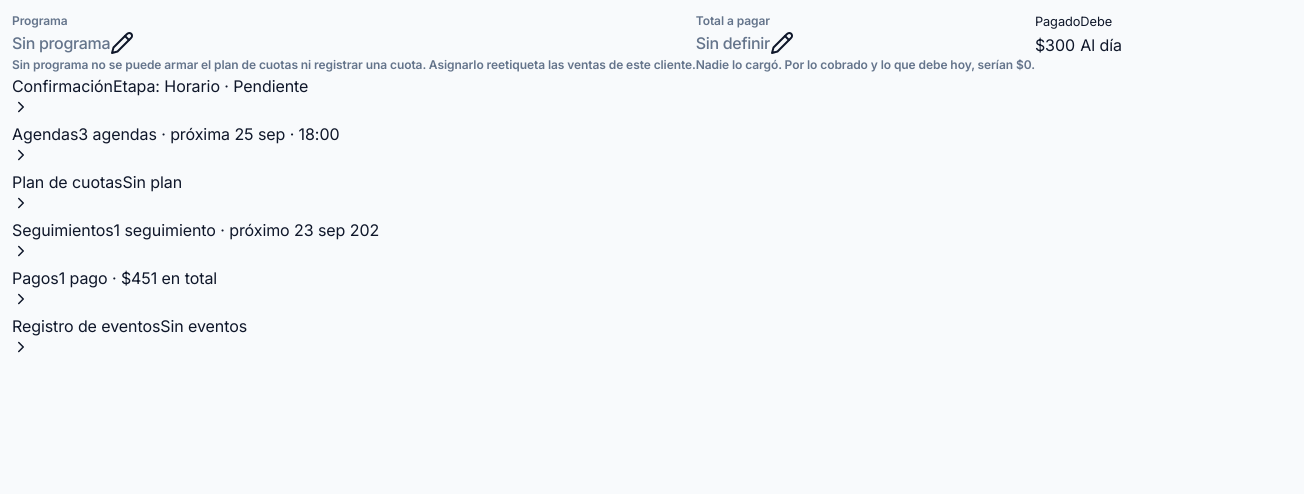
Test: los pagos del historial › un pago viejo se muestra como está escrito, con sus centavos
The image size is (1304, 494).
Click the button "Pagos1 pago · $451 en total" at {"x": 115, "y": 287}, box [12,266,217,308]
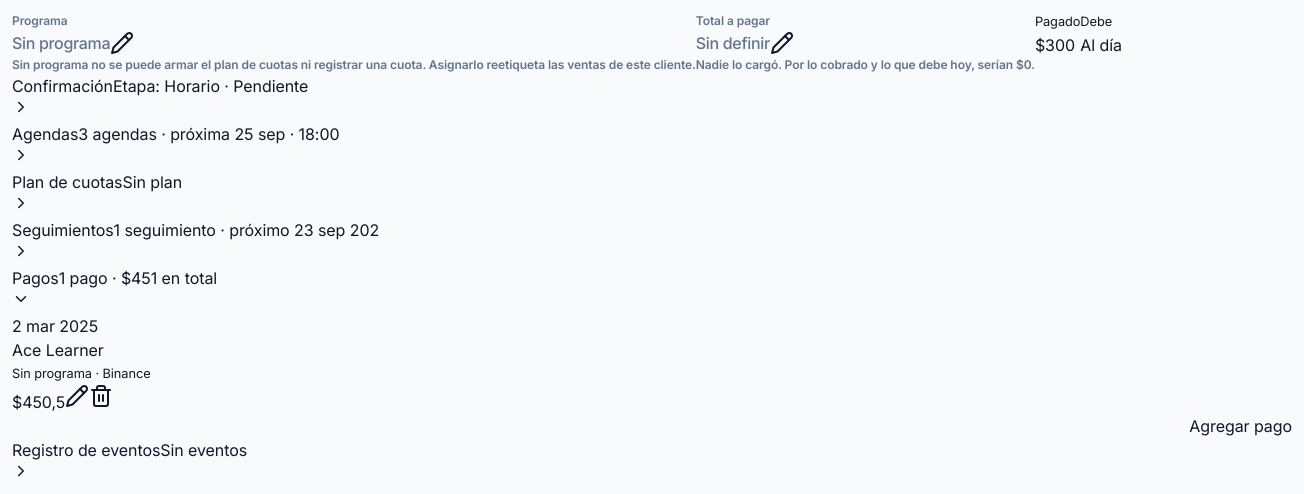
expect the text "Ace Learner" is shown: met, box [12,340,104,360]
expect the text "Sin programa · Binance" is shown: met, box [12,366,150,381]
expect the text "$450,5" is shown: met, box [12,392,65,412]
